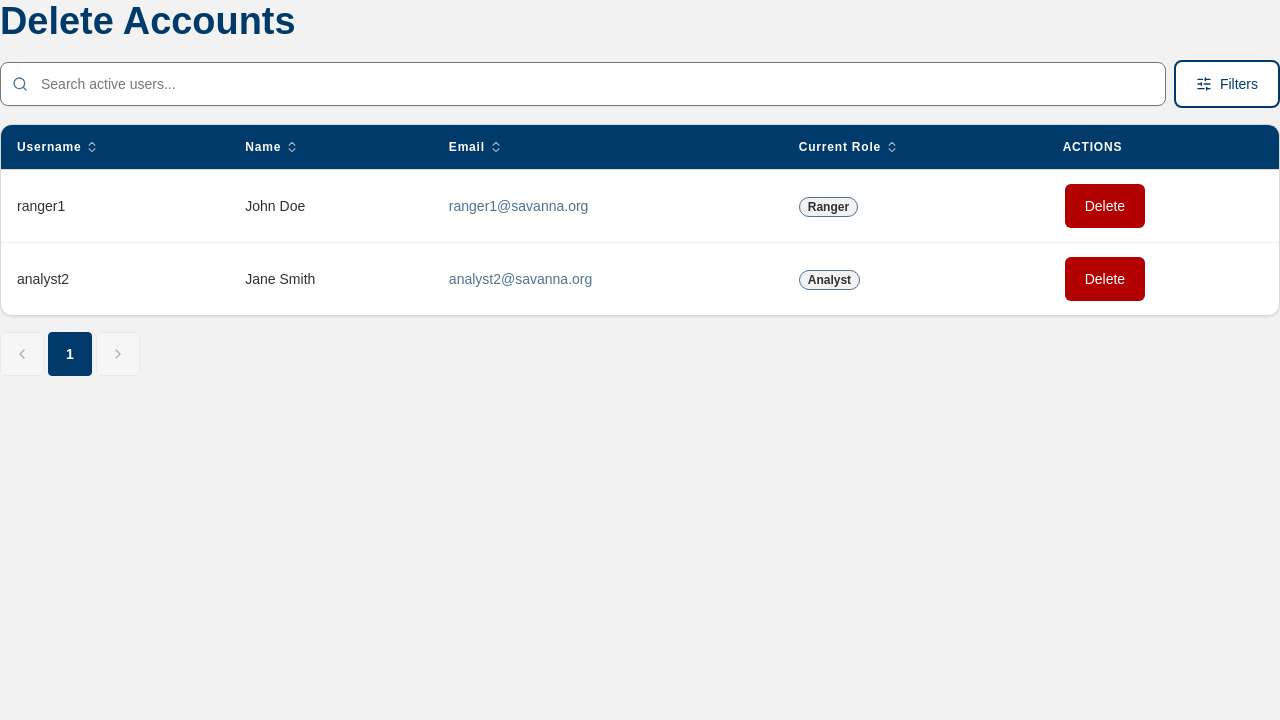
Test: DeleteAccounts - Delete Accounts › closes the confirmation dialog via the header close button
The image size is (1280, 720).
Expected: the text "ranger1" is shown, [1, 169, 229, 242]
Step 1. Click the button "Delete" in the row of "John Doe" → (1105, 206), box [1063, 182, 1147, 230]
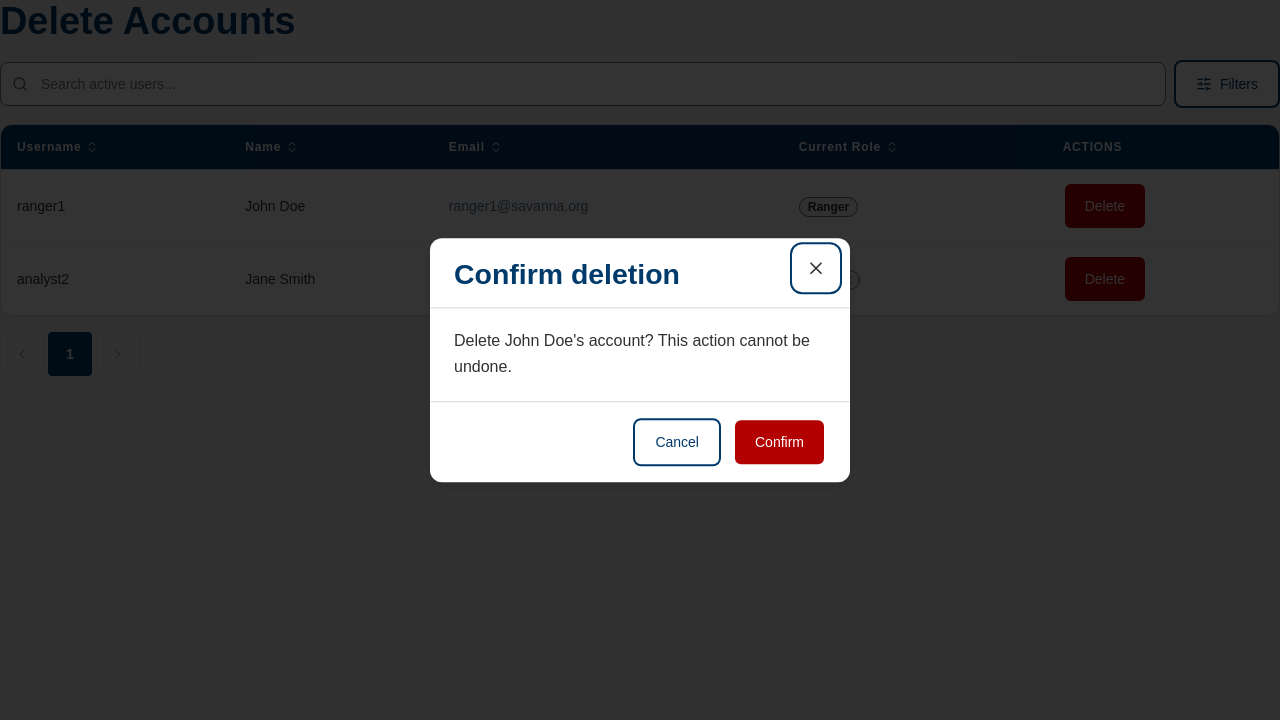
Step 2. Click the button named "cancel, close dialog" → (816, 268), box [794, 246, 838, 290]
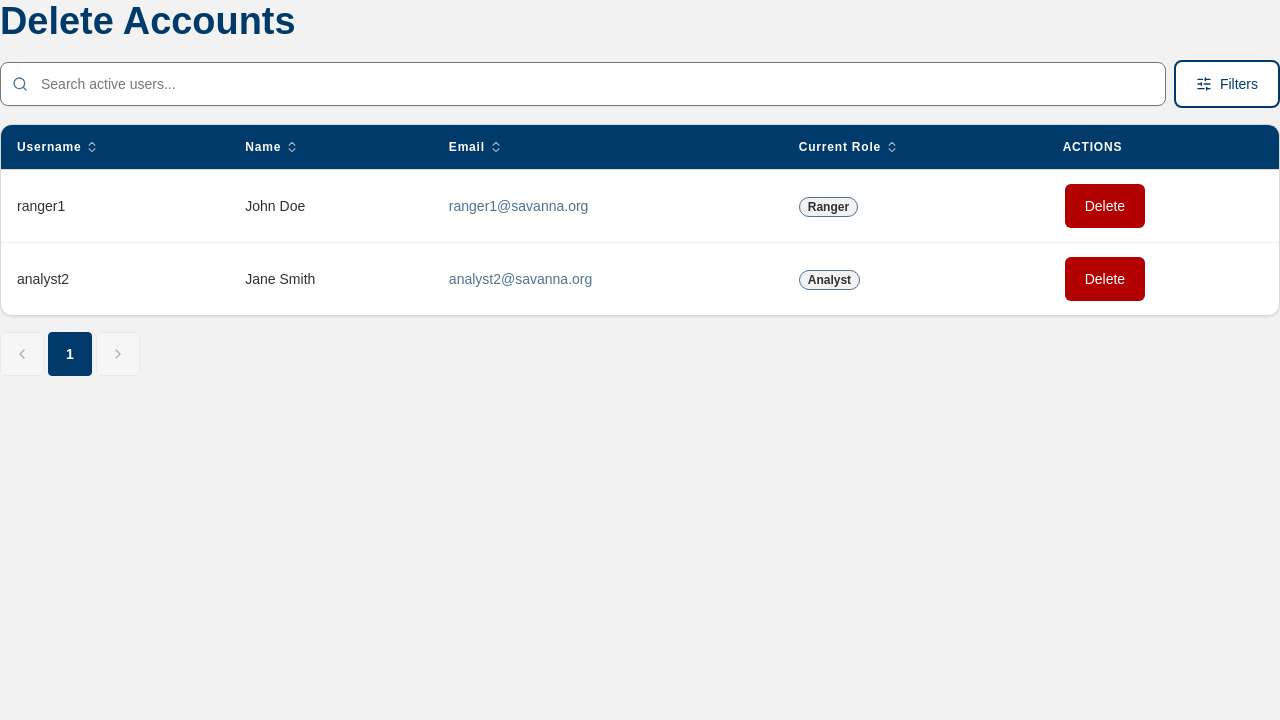
Expected: the text "ranger1" is shown, [1, 169, 229, 242]
Expected: the dialog is gone
